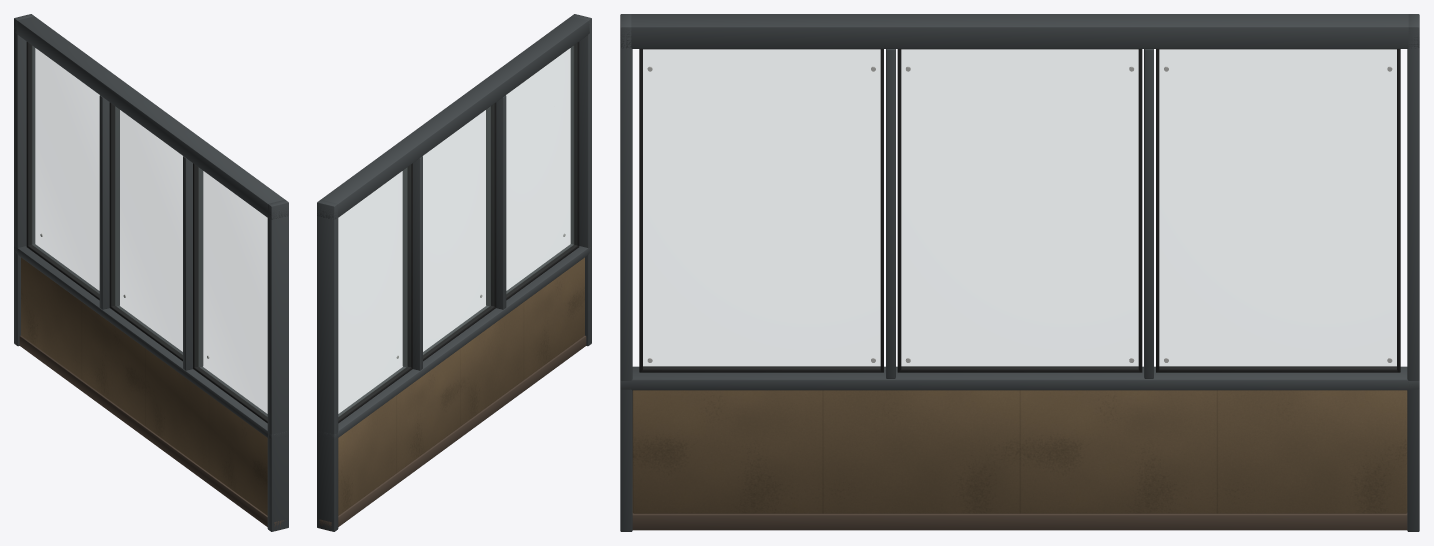
The model's file is outpost_glass_wall.glb.
The picture shows the model from 3 angles, left to right: view 1: azimuth 30°, elevation 25°; view 2: azimuth 150°, elevation 25°; view 3: azimuth 270°, elevation 25°; orthographic projection. The views are drawn at different scales.
Visible parts, largest first — view 1: dado, glass, glass.001, glass.002, header, endpost, sill, endpost.001, mullion.001, mullion, cove, gasket.006 (+5 smaller); view 2: dado, glass.002, glass.001, glass, header, endpost.001, sill, endpost, mullion, mullion.001, cove, gasket.007 (+5 smaller); view 3: dado, glass, glass.002, glass.001, header, sill, cove, endpost.001, endpost, mullion, mullion.001, gasket.005 (+8 smaller).
Boxes of the visible parts, left/top/right/bottom form: dado: left=21, top=257, right=267, bottom=515; glass: left=195, top=166, right=267, bottom=419; glass.001: left=112, top=105, right=182, bottom=357; glass.002: left=29, top=44, right=99, bottom=296; header: left=14, top=16, right=288, bottom=219; endpost: left=267, top=200, right=288, bottom=531; sill: left=14, top=244, right=288, bottom=439; endpost.001: left=14, top=14, right=35, bottom=346; mullion.001: left=99, top=95, right=119, bottom=309; mullion: left=183, top=156, right=203, bottom=370; cove: left=19, top=335, right=284, bottom=531; gasket.006: left=109, top=102, right=115, bottom=308; dado: left=338, top=257, right=584, bottom=515; glass.002: left=338, top=166, right=410, bottom=419; glass.001: left=423, top=105, right=493, bottom=357; glass: left=506, top=44, right=576, bottom=296; header: left=317, top=16, right=589, bottom=219; endpost.001: left=317, top=200, right=338, bottom=531; sill: left=317, top=244, right=590, bottom=439; endpost: left=570, top=14, right=591, bottom=346; mullion: left=486, top=95, right=506, bottom=309; mullion.001: left=402, top=156, right=422, bottom=370; cove: left=319, top=335, right=586, bottom=531; gasket.007: left=490, top=102, right=496, bottom=308; dado: left=632, top=390, right=1407, bottom=513; glass: left=643, top=49, right=880, bottom=368; glass.002: left=1159, top=49, right=1396, bottom=368; glass.001: left=901, top=49, right=1138, bottom=368; header: left=620, top=14, right=1419, bottom=48; sill: left=620, top=366, right=1419, bottom=390; cove: left=632, top=513, right=1407, bottom=530; endpost.001: left=1407, top=14, right=1419, bottom=531; endpost: left=620, top=14, right=632, bottom=531; mullion: left=886, top=49, right=895, bottom=378; mullion.001: left=1144, top=49, right=1153, bottom=378; gasket.005: left=897, top=366, right=1142, bottom=372.
Bounding box in the file's own units: 0.188 × 3.14 × 4.5.
Materials: 6 (1 with a texture image).
